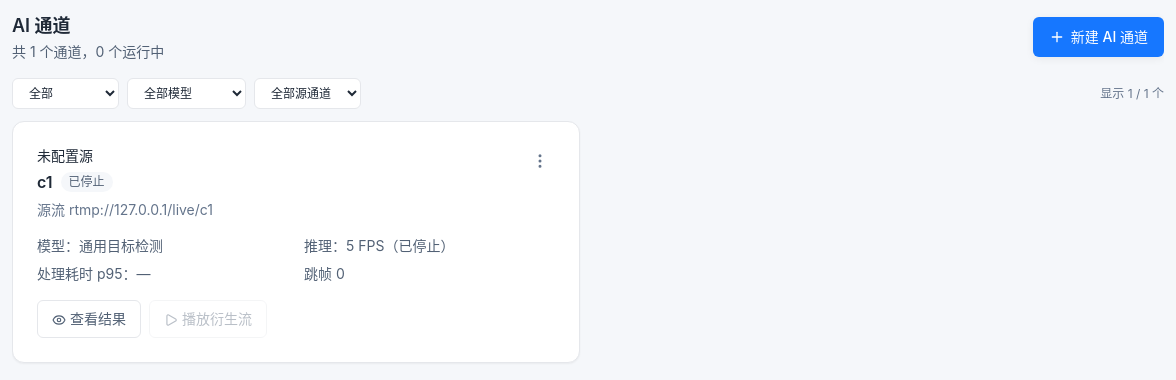
AiChannelsPage › 点击 ⋮ 菜单：idle 通道展示"启动"而非"停止"
Step 1. Click the button named "更多操作" → click(540, 161), box x1=525 y1=146 x2=555 y2=176
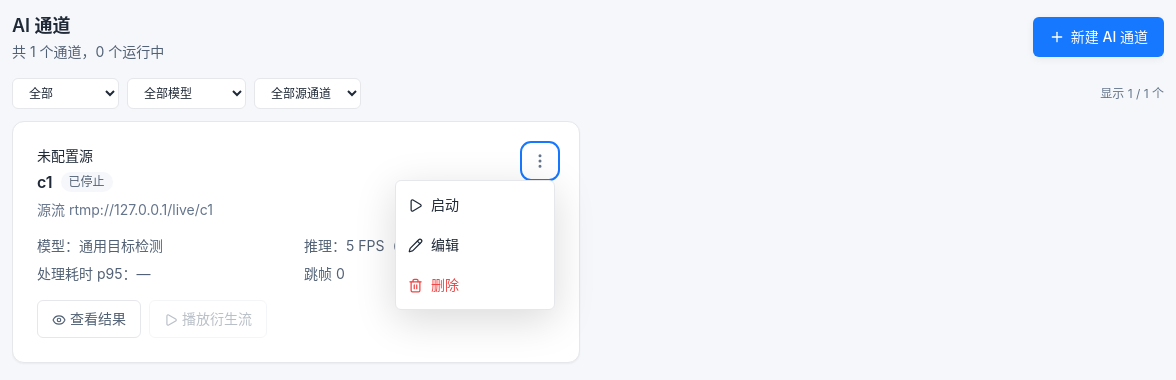
Check: the button "启动" is shown, box x1=396 y1=185 x2=554 y2=225
